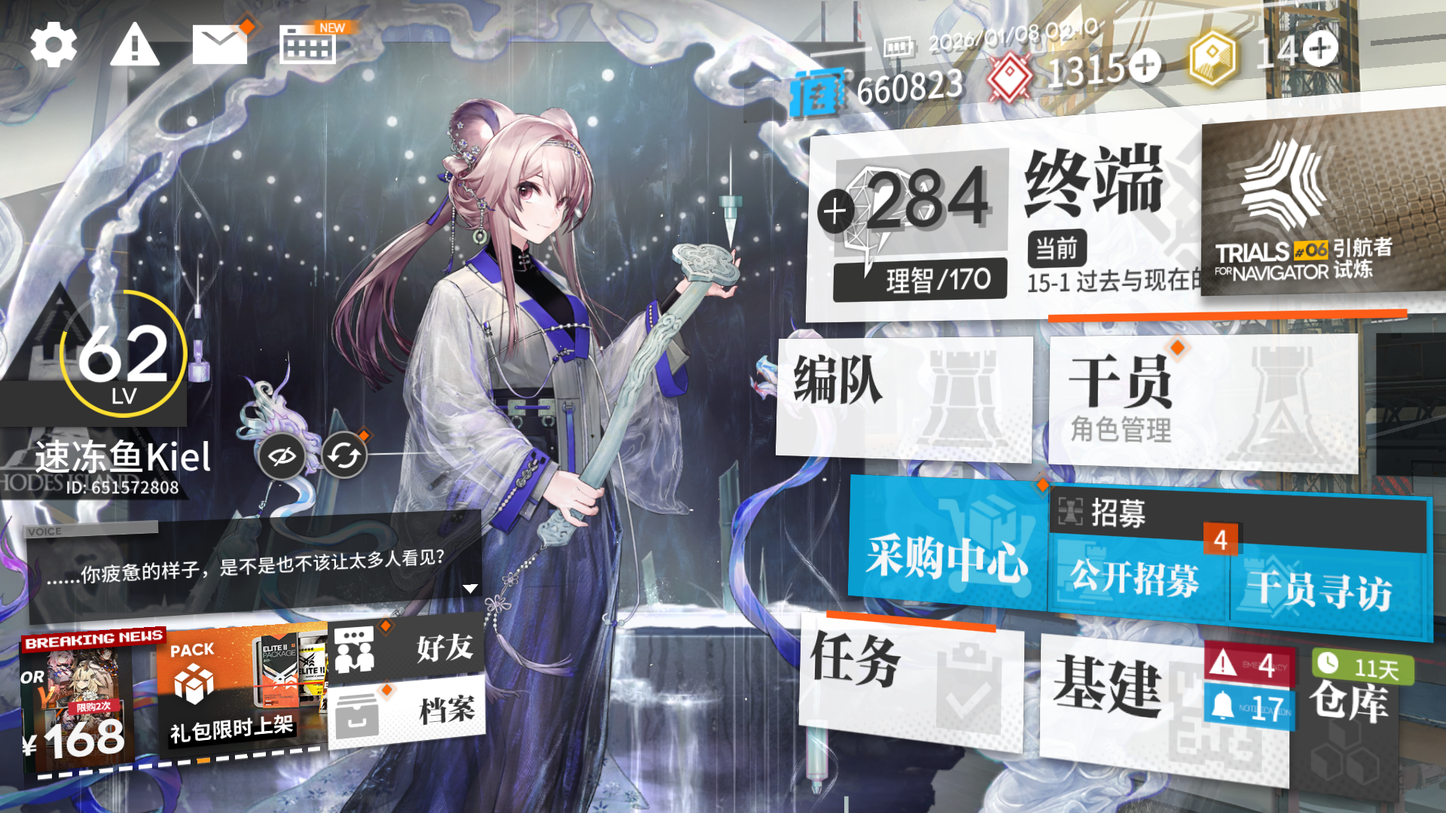home_button: (1020, 120, 1158, 235)
infrastructure_button: (1040, 639, 1288, 759)
